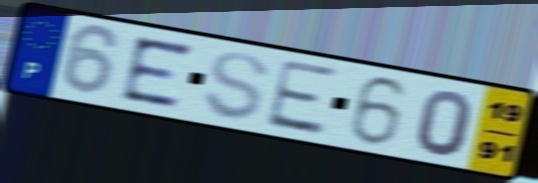0: (411, 86, 476, 159)
6: (56, 22, 126, 100), (346, 74, 411, 148)
E: (261, 56, 340, 138), (119, 34, 197, 110)
S: (200, 49, 272, 123)
